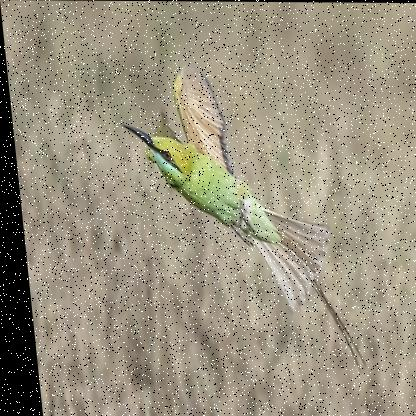Burung: (114, 62, 359, 372)
